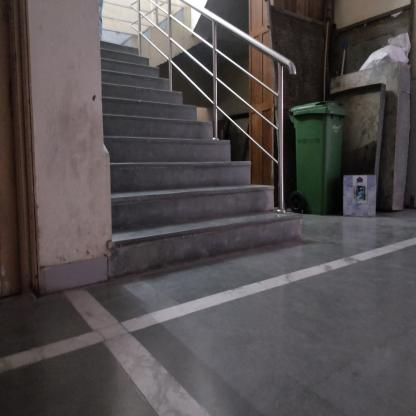stairs: (114, 160, 272, 278)
